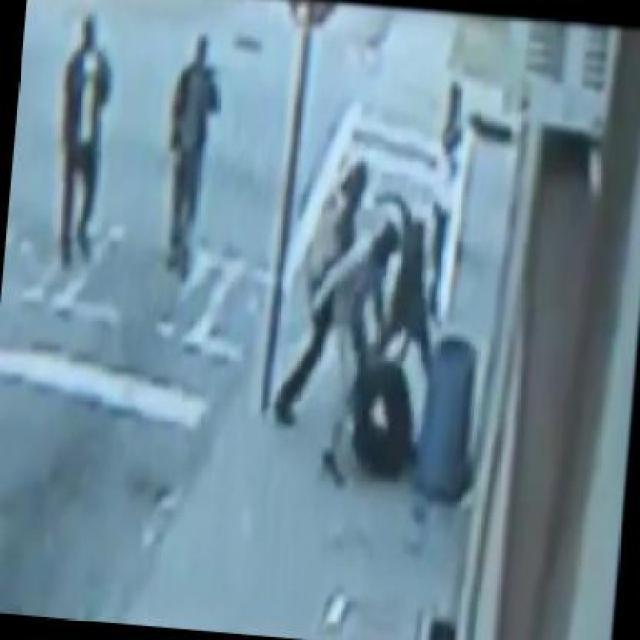fight: (345, 186, 447, 497)
